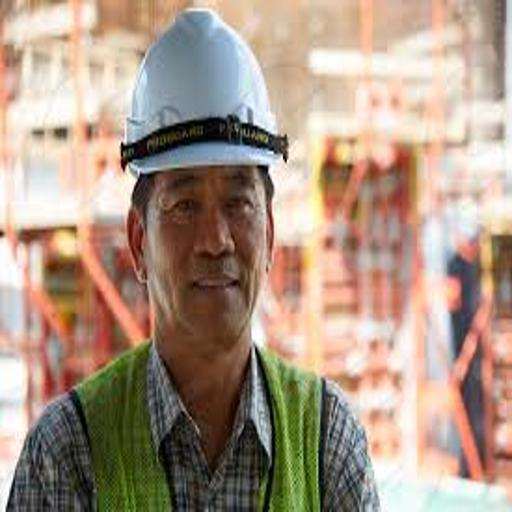Hard_hat: (106, 0, 313, 186)
Humans: (7, 167, 386, 512)
Vest: (40, 334, 354, 512)
